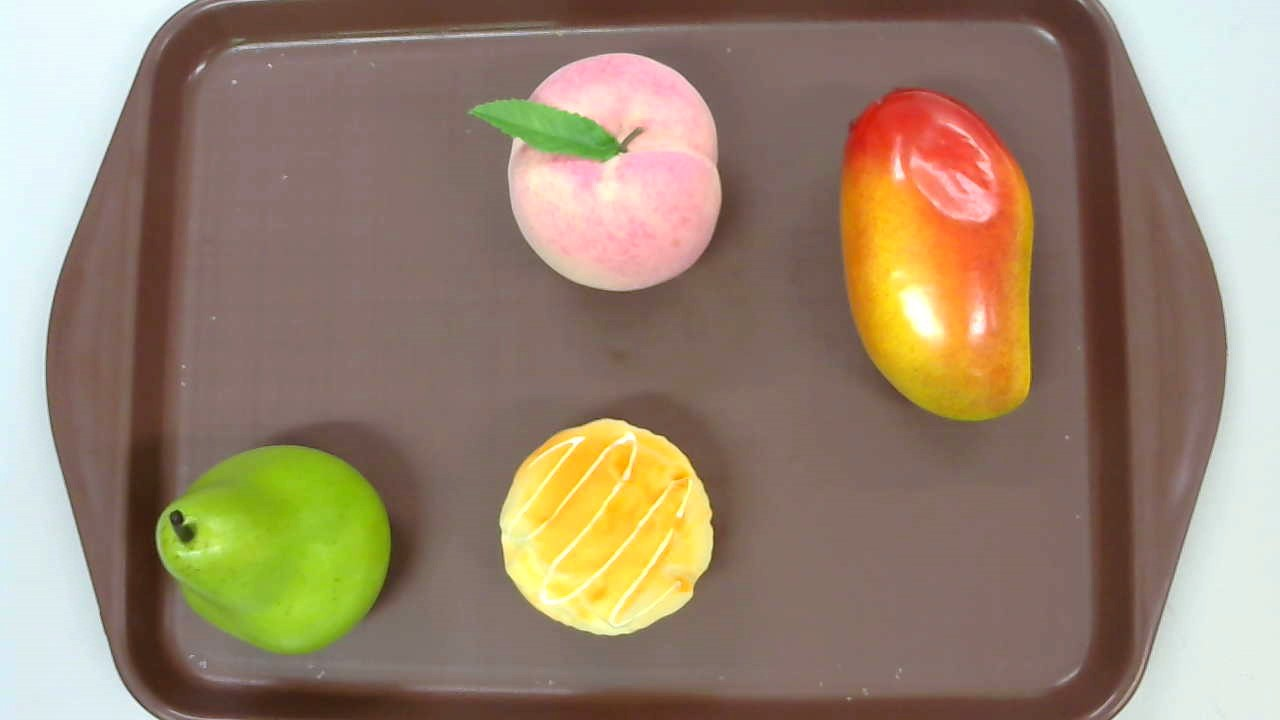cupcake: (499, 418, 715, 637)
green pear: (156, 443, 389, 654)
peach: (468, 53, 724, 294)
red mango: (839, 85, 1033, 422)
